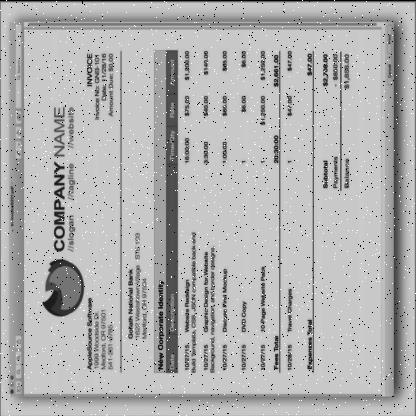Paragraph: (318, 45, 356, 195), (302, 47, 316, 374), (51, 101, 77, 255), (126, 228, 150, 342), (85, 292, 117, 374), (83, 49, 117, 125), (156, 278, 166, 370)
Table: (167, 45, 295, 375)
